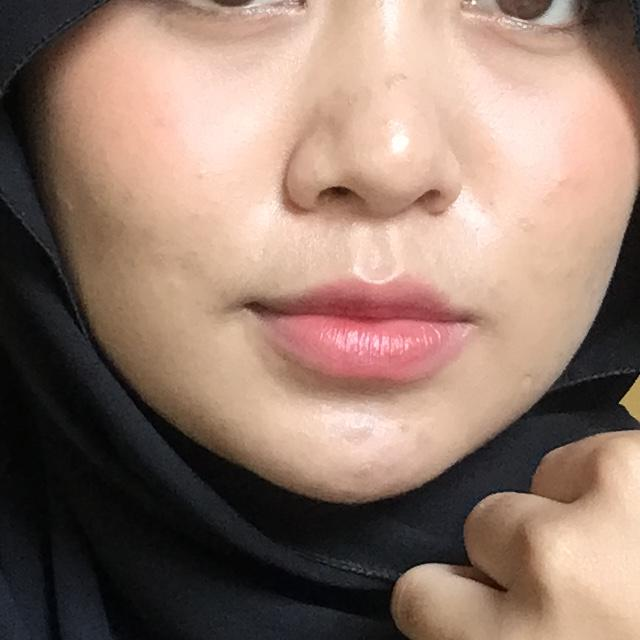telpon: (160, 166, 640, 640)
